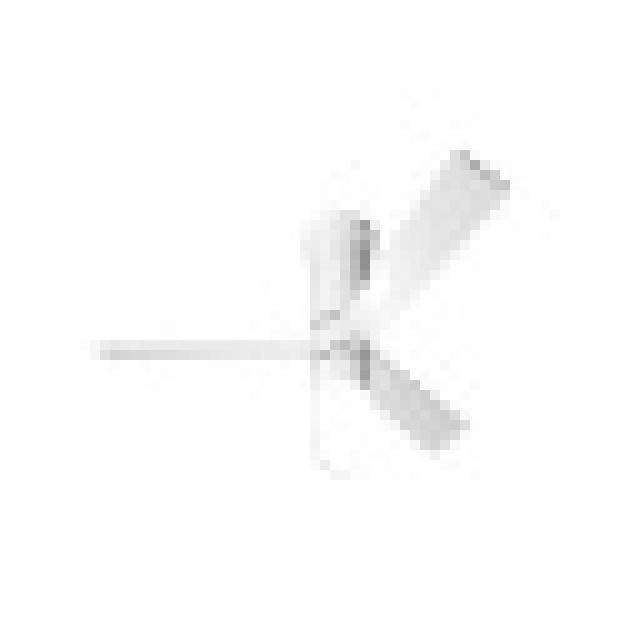fan: (92, 147, 511, 472)
